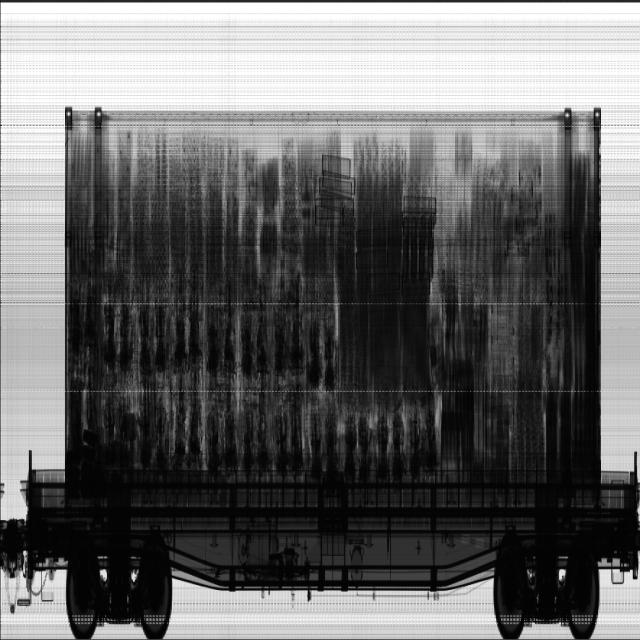table ware: (104, 132, 301, 277)
